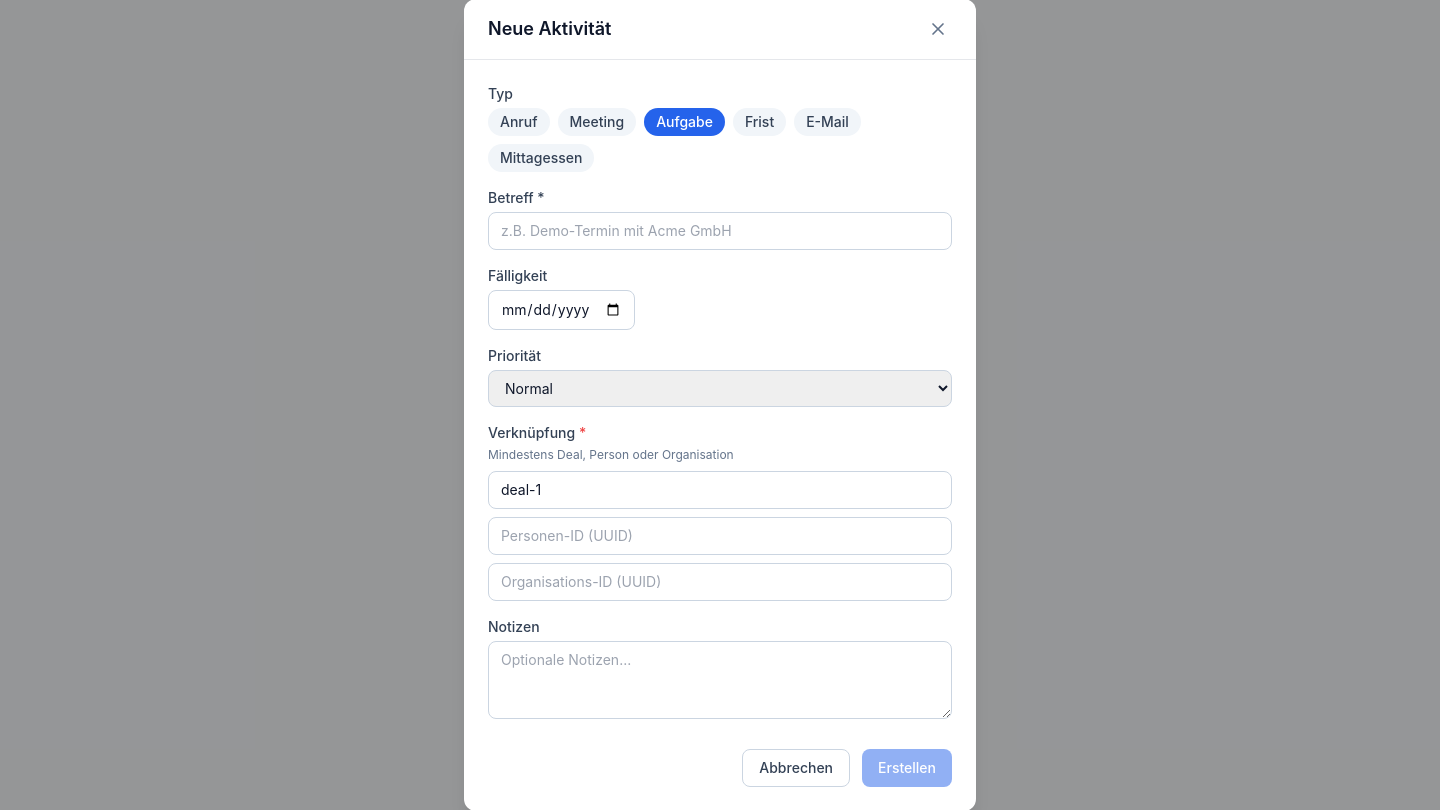
Scenario: CreateActivityModal › shows conflict warning for MEETING type with times
Step 1. Click the button "Meeting" → [597, 122], box [558,108,636,136]
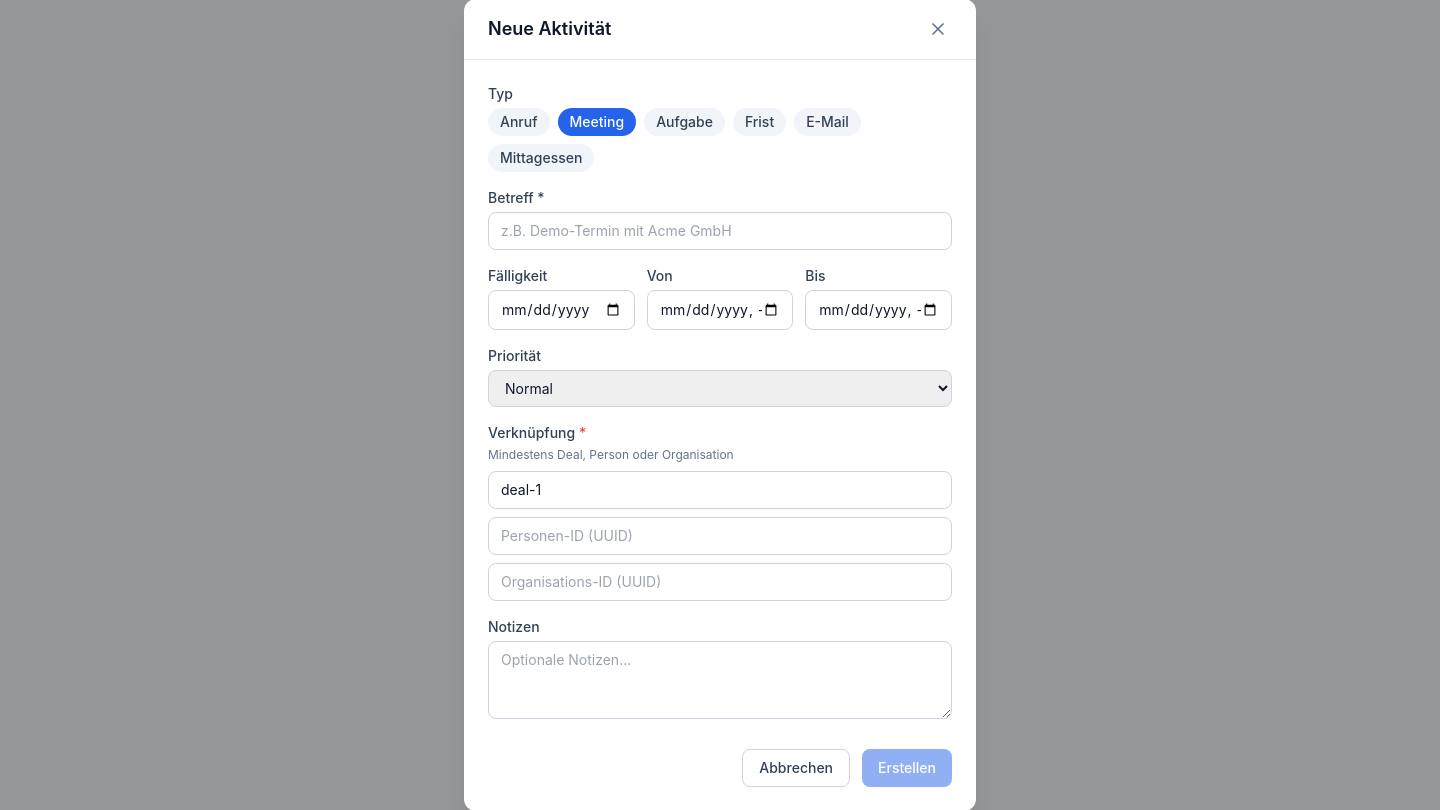
// datetime-local inputs — query by their container order
Step 2. Type "2026-05-12T10:00" into the field below "Von" → [720, 310], box [647,290,793,330]
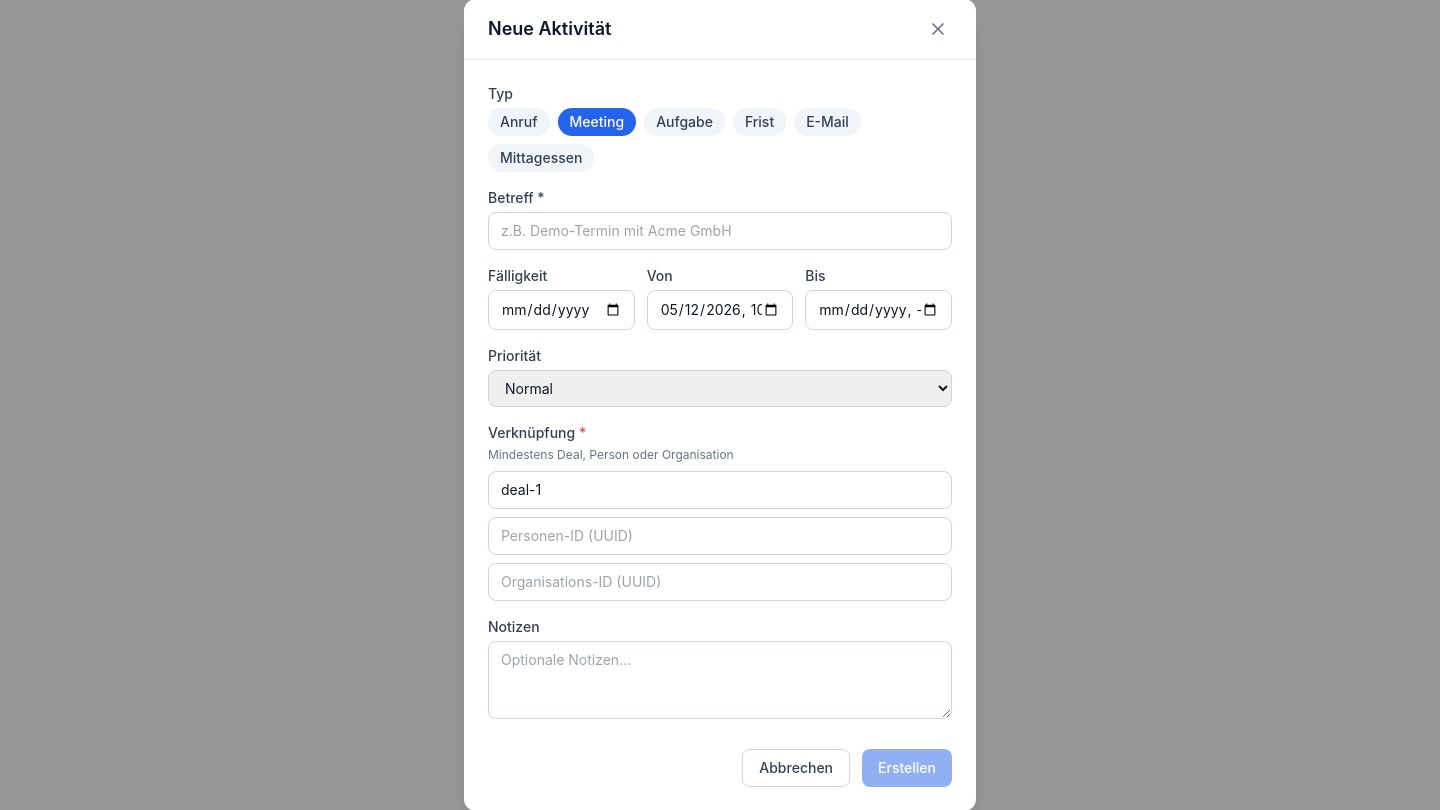
Step 3. Type "2026-05-12T11:00" into the field below "Bis" → [879, 310], box [805,290,952,330]
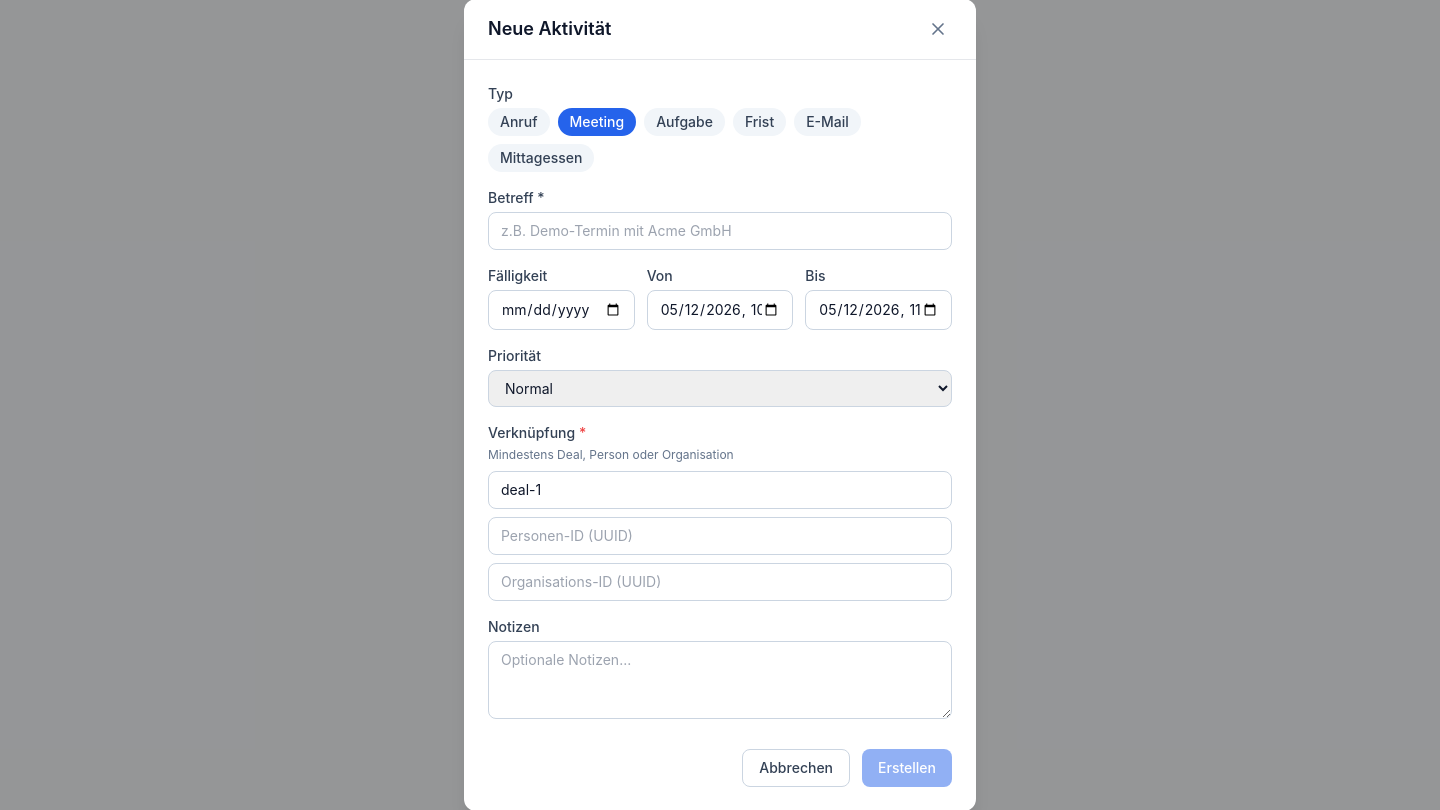
Step 4. Type "Konflikt Meeting" into the field with placeholder "z.B. Demo-Termin mit Acme GmbH" → [720, 231], box [488,212,952,250]
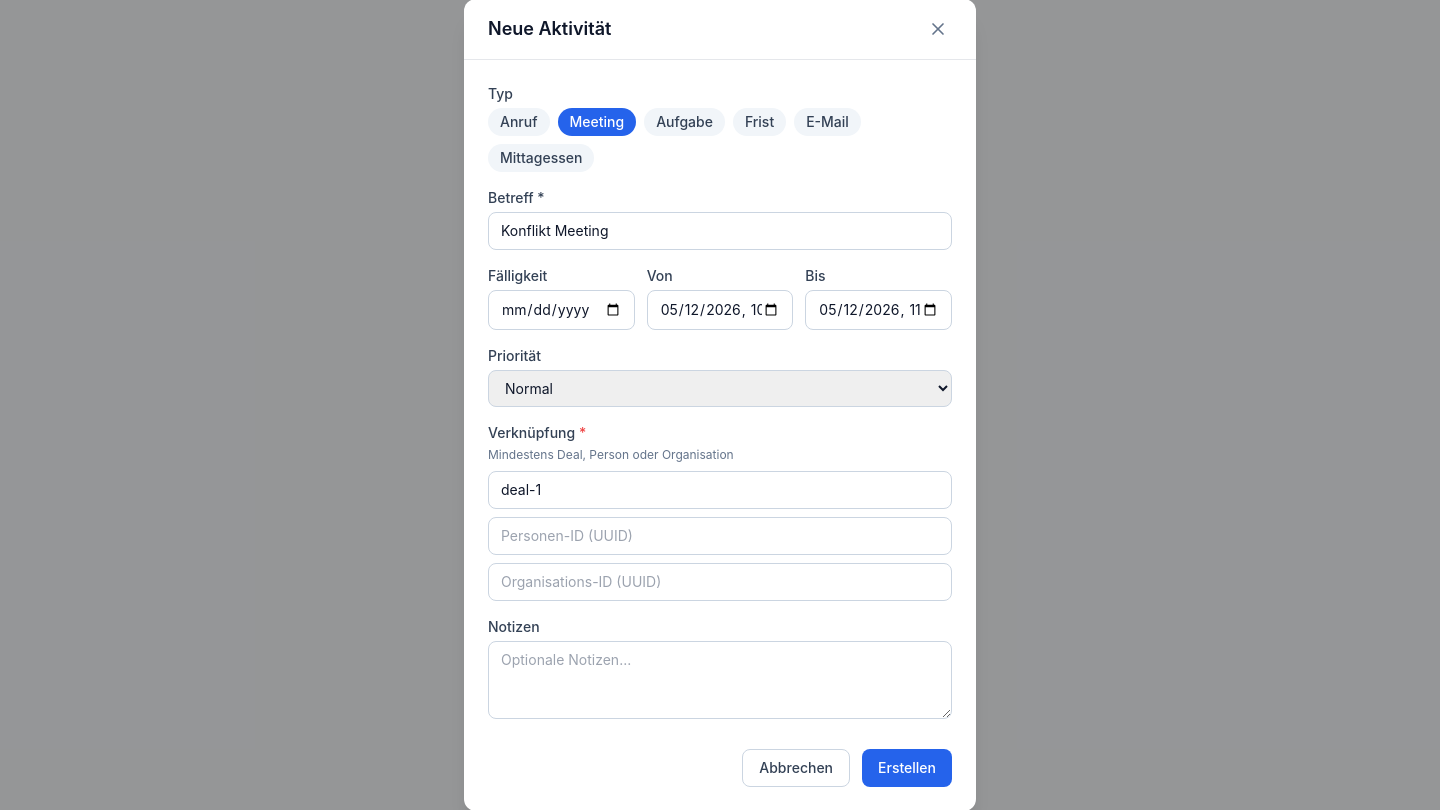
Step 5. Click the button "Erstellen" → [907, 768], box [862,749,952,787]
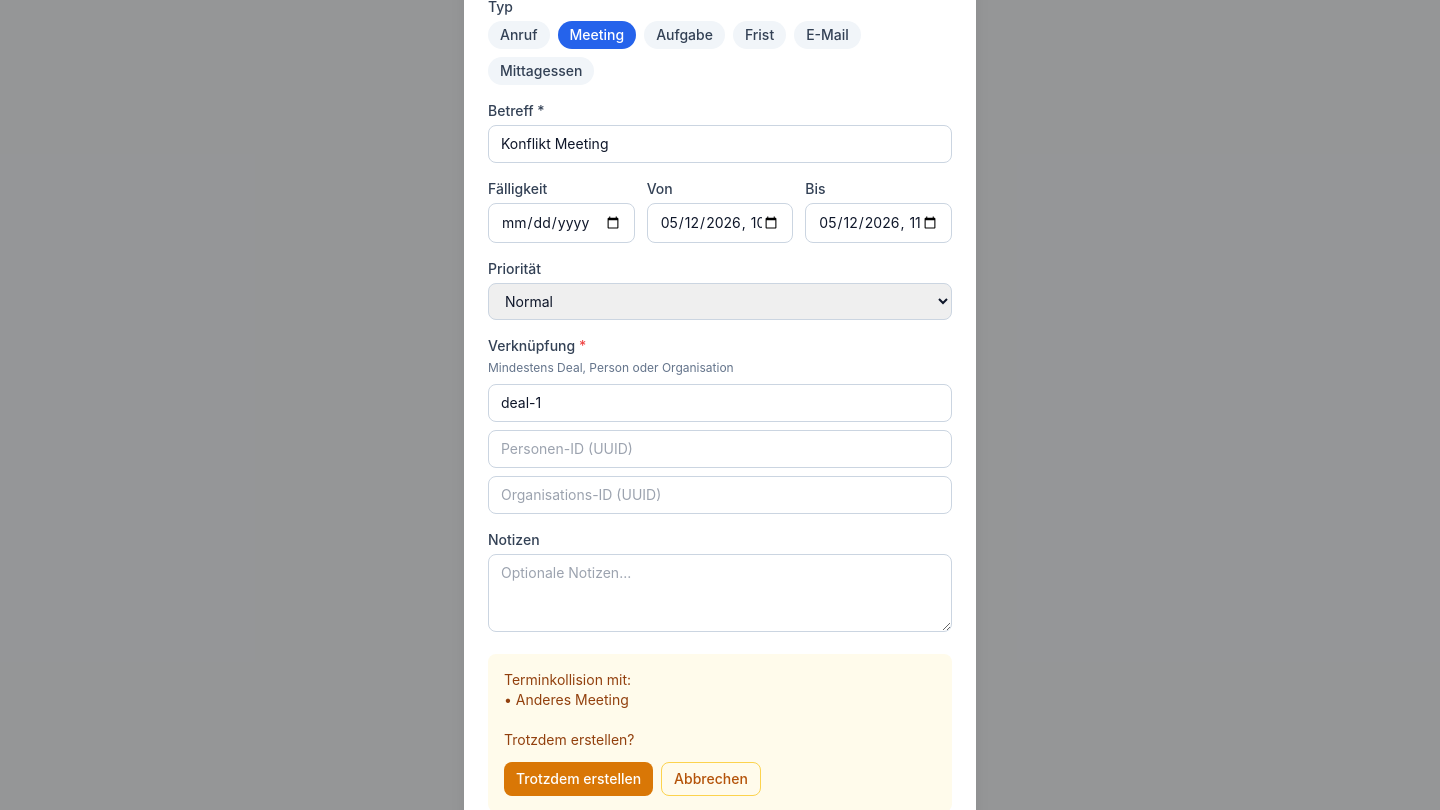
Result: the text "Terminkollision mit: • Anderes Meeting Trotzdem erstellen?" is shown at [504,671,634,748]
